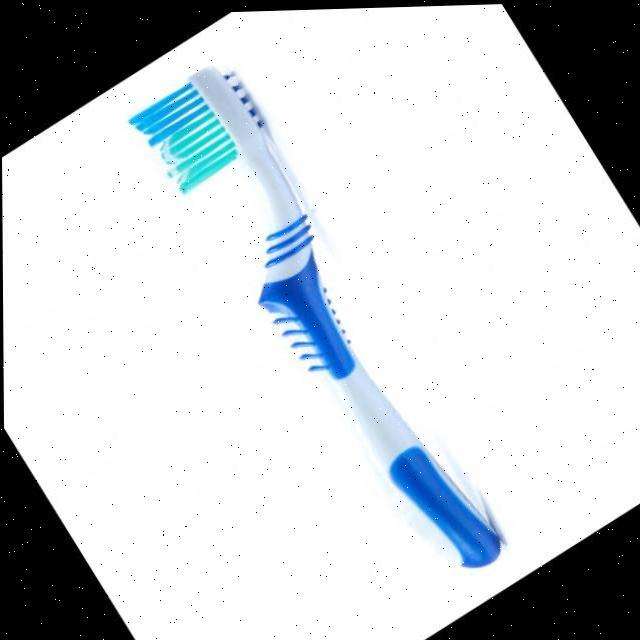toothbrush: (117, 34, 538, 616)
